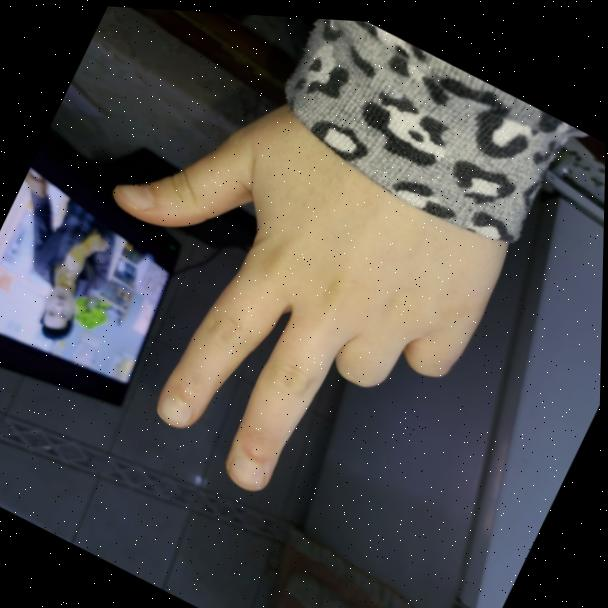three: (21, 20, 524, 553)
